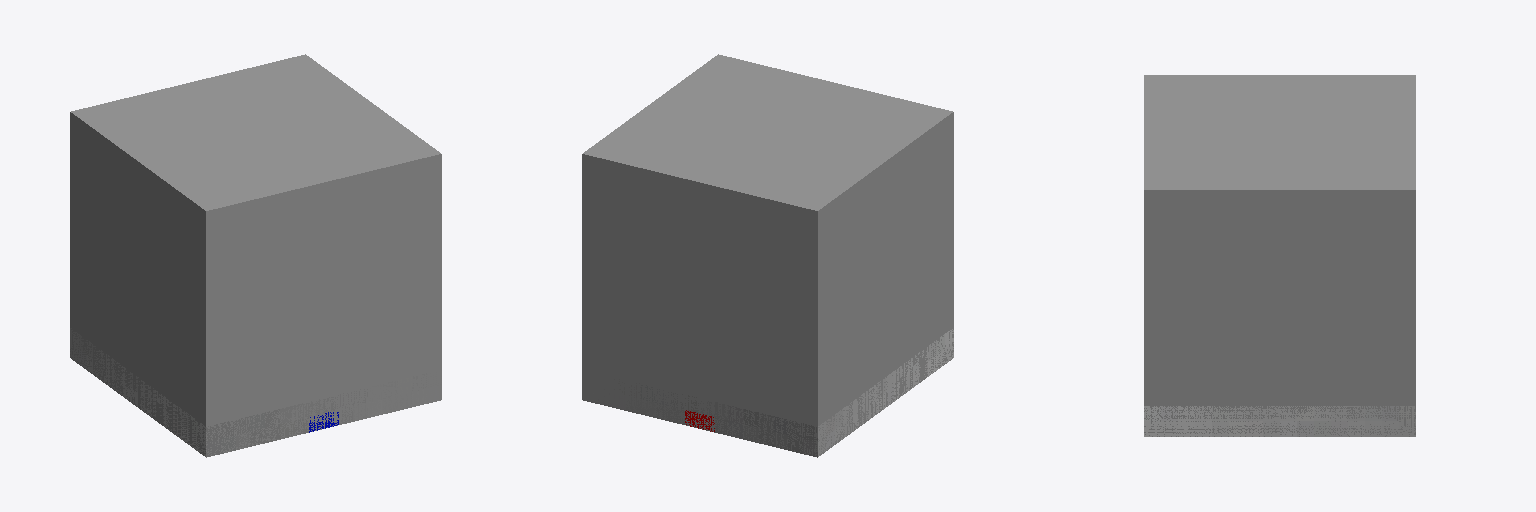
The picture shows the model from 3 angles: view 1: azimuth 30°, elevation 25°; view 2: azimuth 150°, elevation 25°; view 3: azimuth 270°, elevation 25°; orthographic projection.
Parts seen in each view (by area): view 1: Minecraft_Block_Cube, main; view 2: Minecraft_Block_Cube, main; view 3: Minecraft_Block_Cube, main.
Part boxes in pixels (bbox=[...]): Minecraft_Block_Cube: bbox=[70, 54, 441, 457]; main: bbox=[70, 328, 441, 456]; Minecraft_Block_Cube: bbox=[582, 54, 953, 456]; main: bbox=[582, 329, 953, 457]; Minecraft_Block_Cube: bbox=[1144, 75, 1415, 436]; main: bbox=[1144, 406, 1415, 436].
Size of the model in its own units: 1 by 1 by 1.
2 materials, 1 textured.